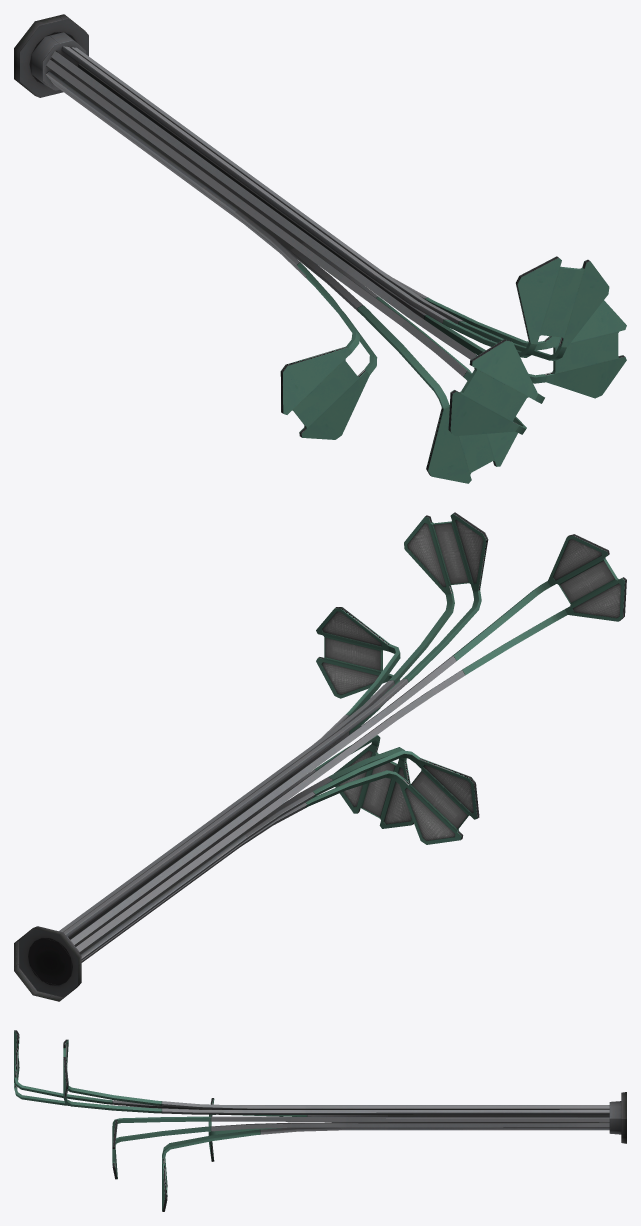
The model's file is nt_2020_streetlight_01_LOD1.obj.
The picture shows the model from 3 angles, top to bottom: view 1: azimuth 30°, elevation 25°; view 2: azimuth 150°, elevation 25°; view 3: azimuth 270°, elevation 25°; orthographic projection. The views are drawn at different scales.
Visible parts, largest first — view 1: mtl_nt_2020_streetlights_01; view 2: mtl_nt_2020_streetlights_01; view 3: mtl_nt_2020_streetlights_01.
Part boxes in pixels (left/top/right/bottom): mtl_nt_2020_streetlights_01: left=14, top=14, right=626, bottom=483; mtl_nt_2020_streetlights_01: left=14, top=512, right=626, bottom=1001; mtl_nt_2020_streetlights_01: left=14, top=1030, right=626, bottom=1211.
Size of the model in its own units: 230 by 241 by 797.
